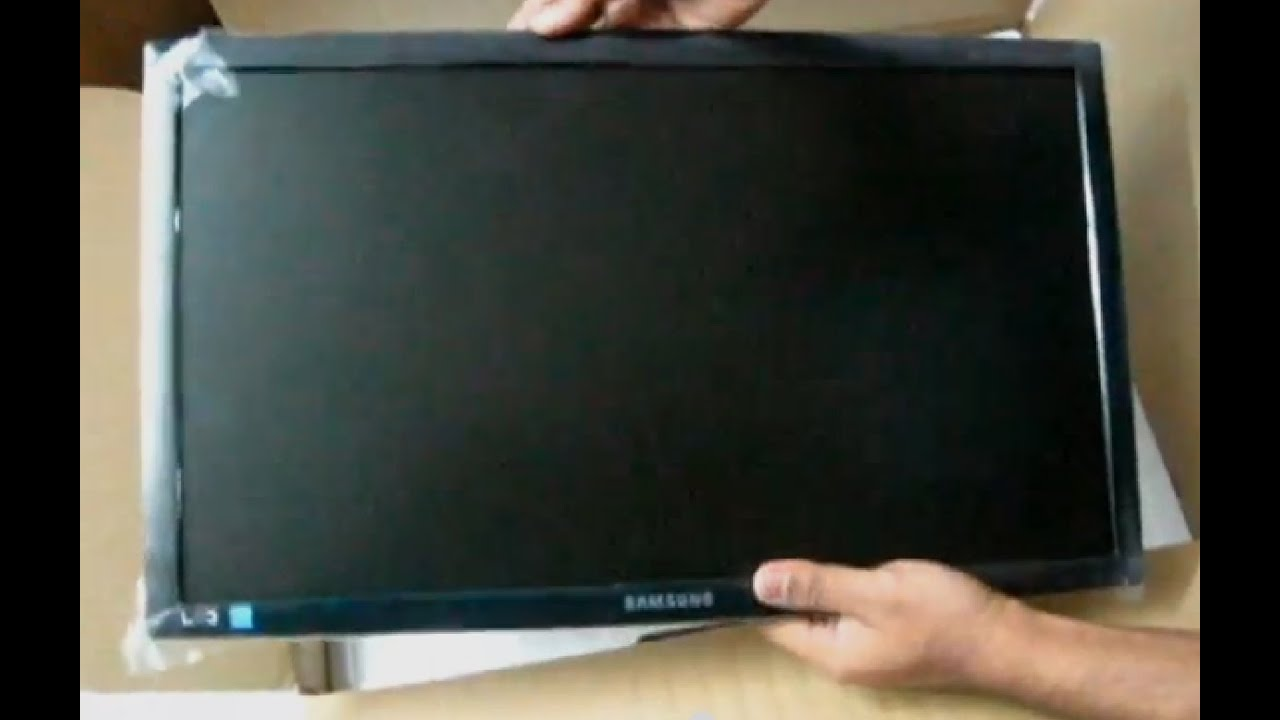samsung-monitor-b2030: (141, 30, 1113, 620)
